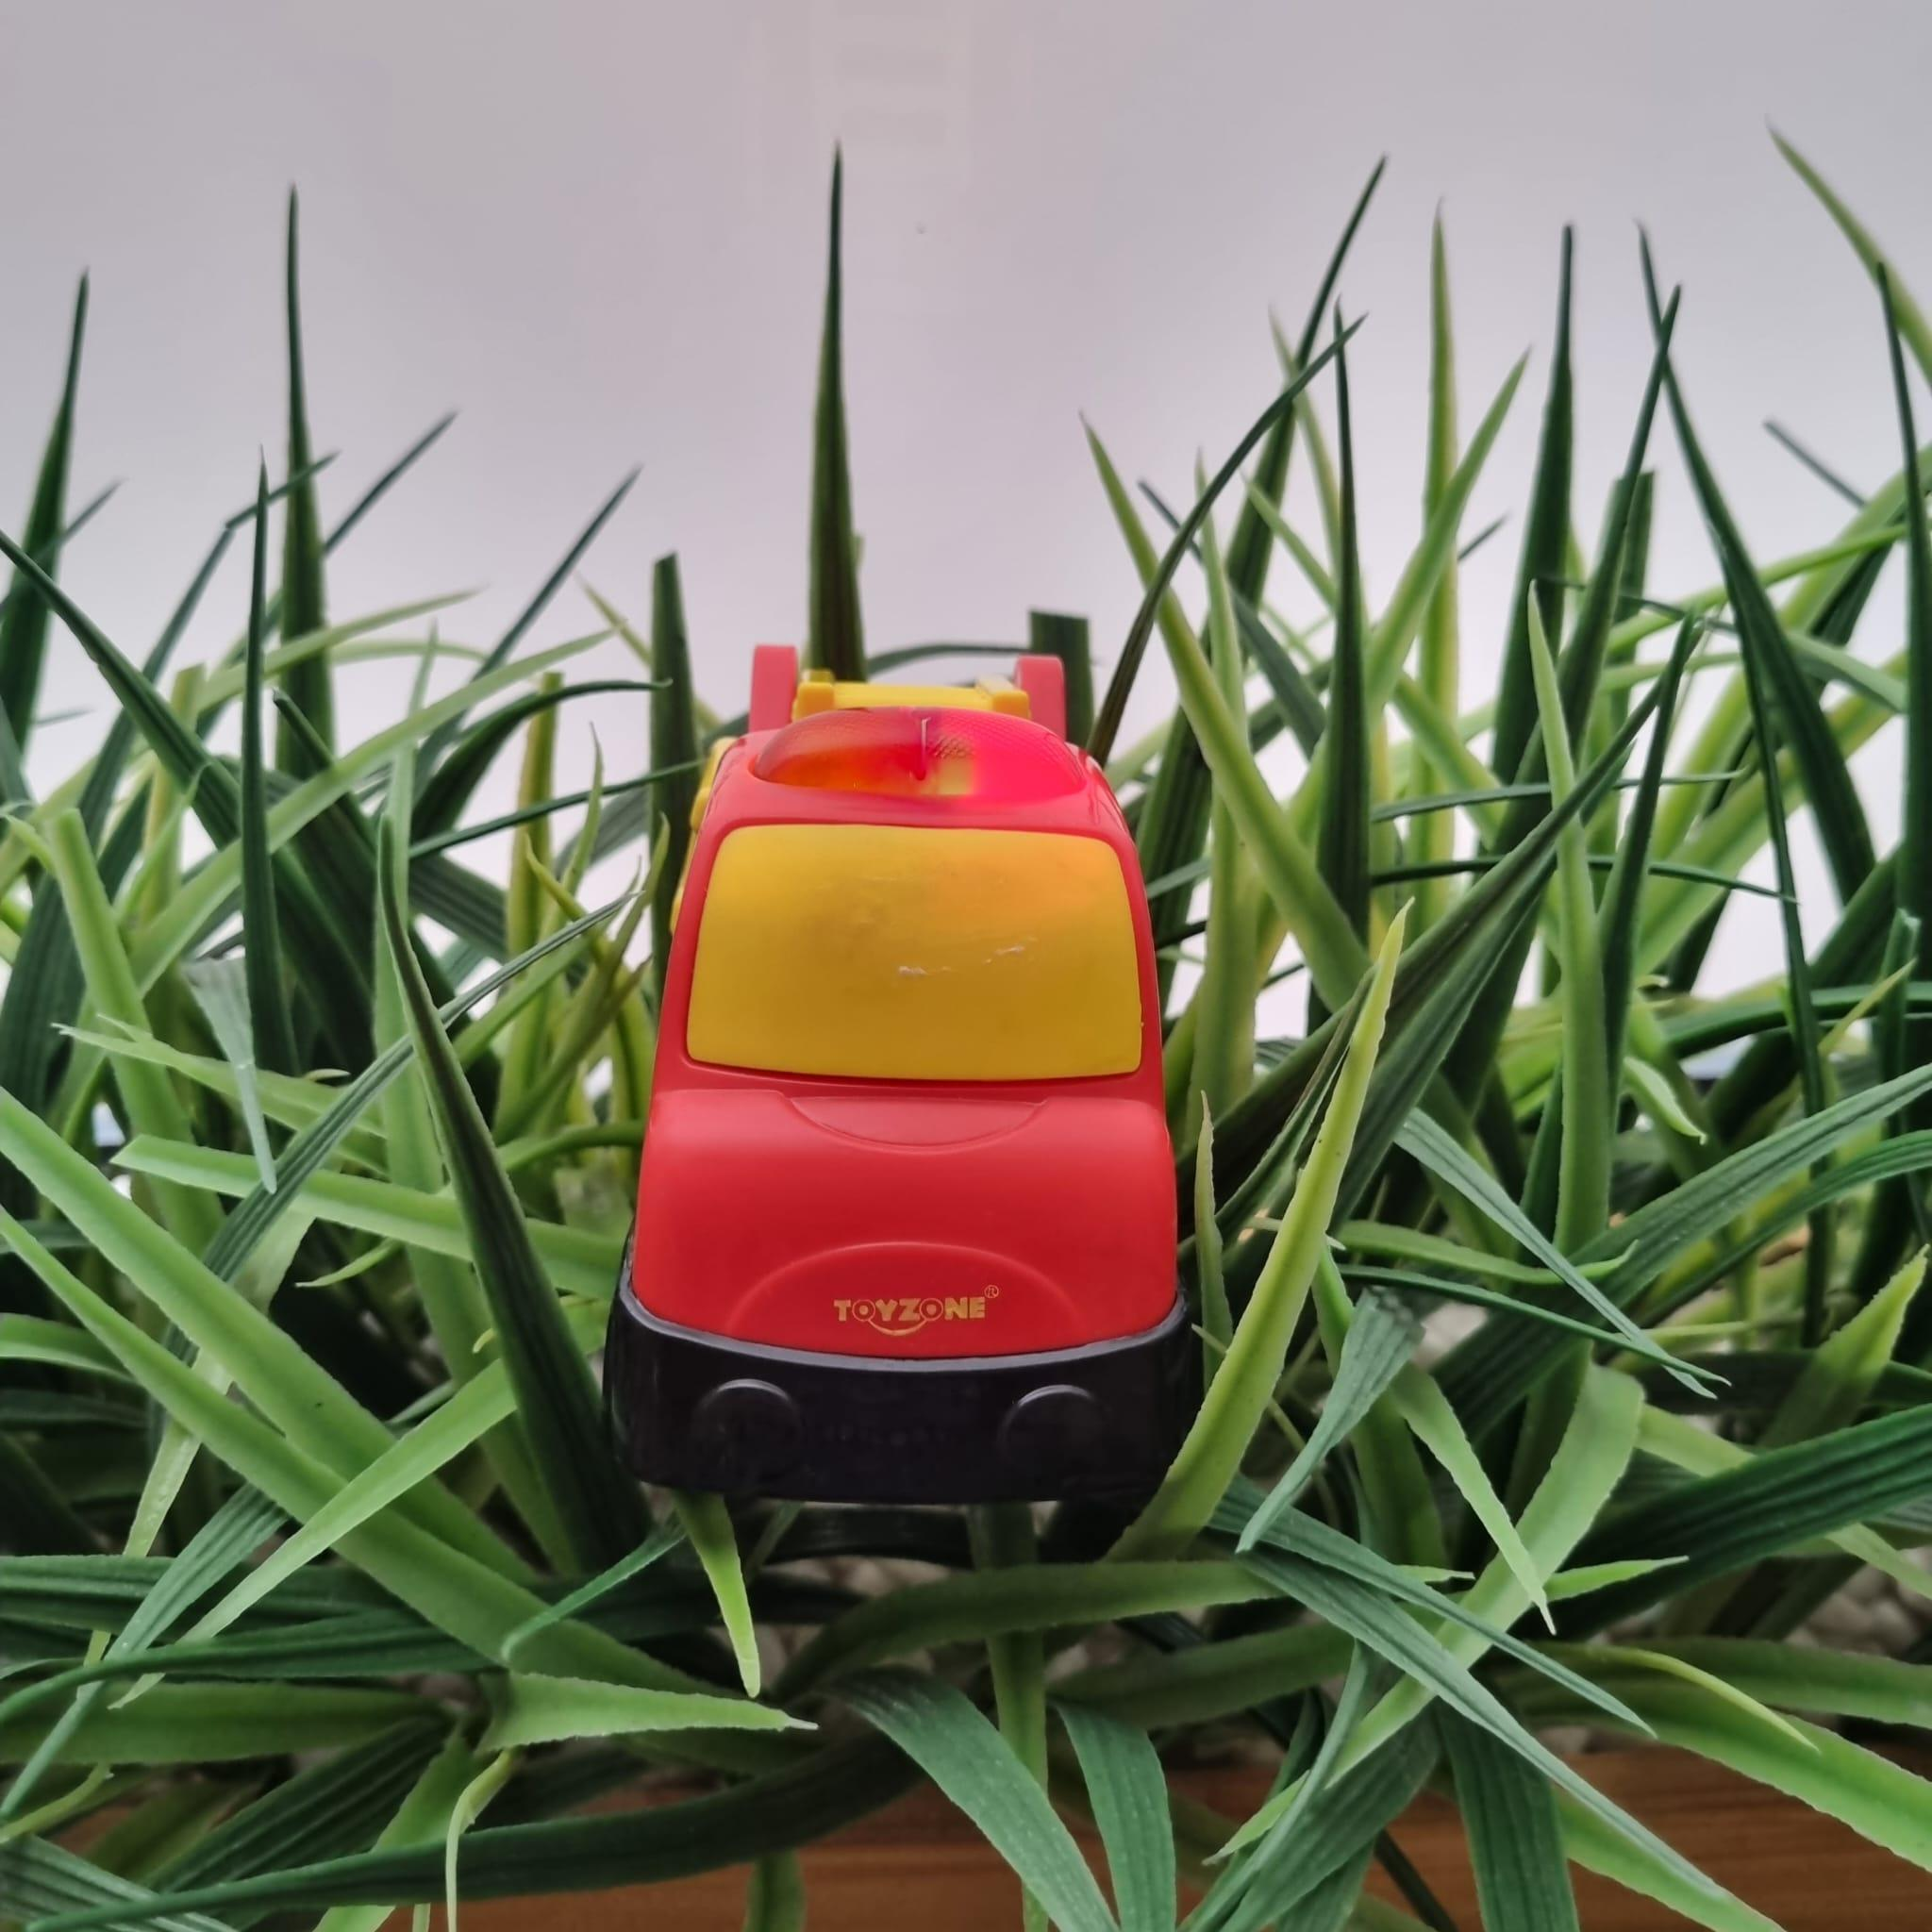firetruck_on: (605, 658, 1196, 1502)
